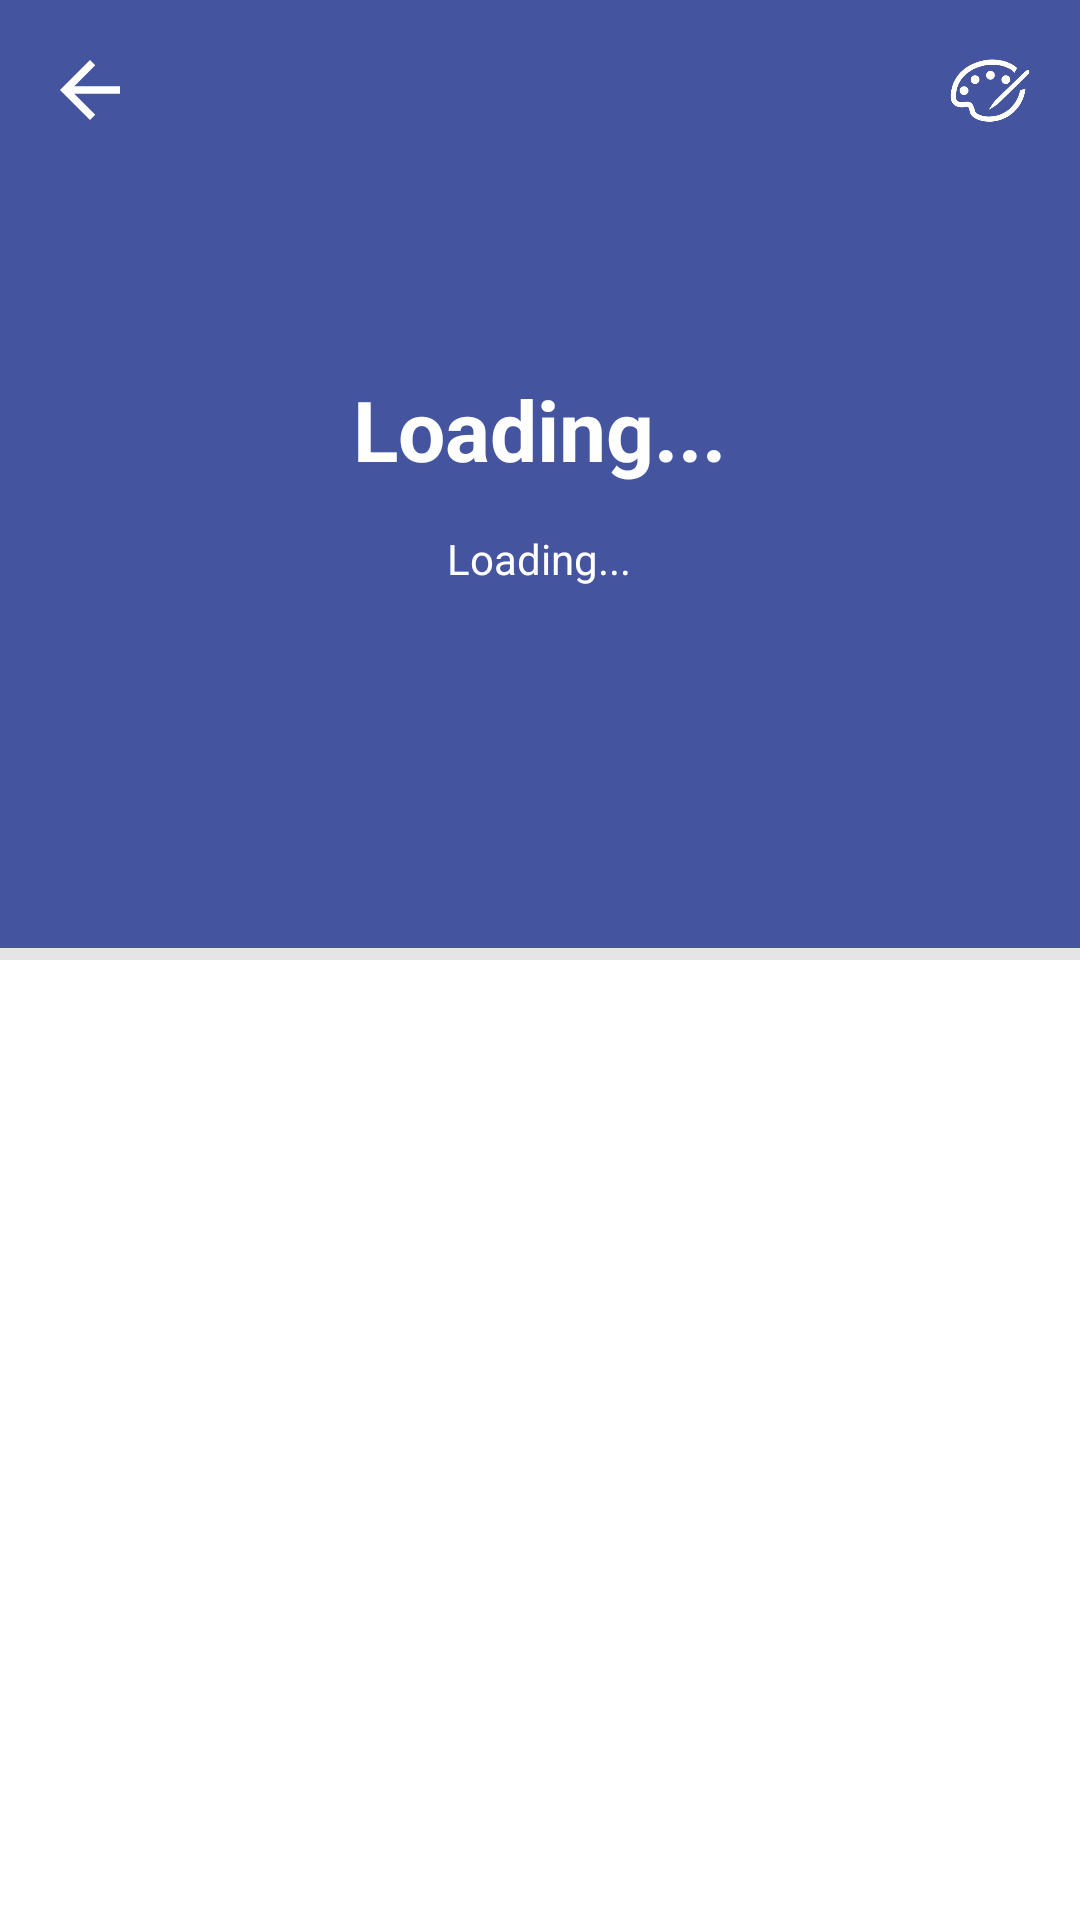

Named icons in this screenshot (1080×1920) and their bounding boxes, (x1, y1, x2, y2):
goback: (60, 60, 120, 120)
